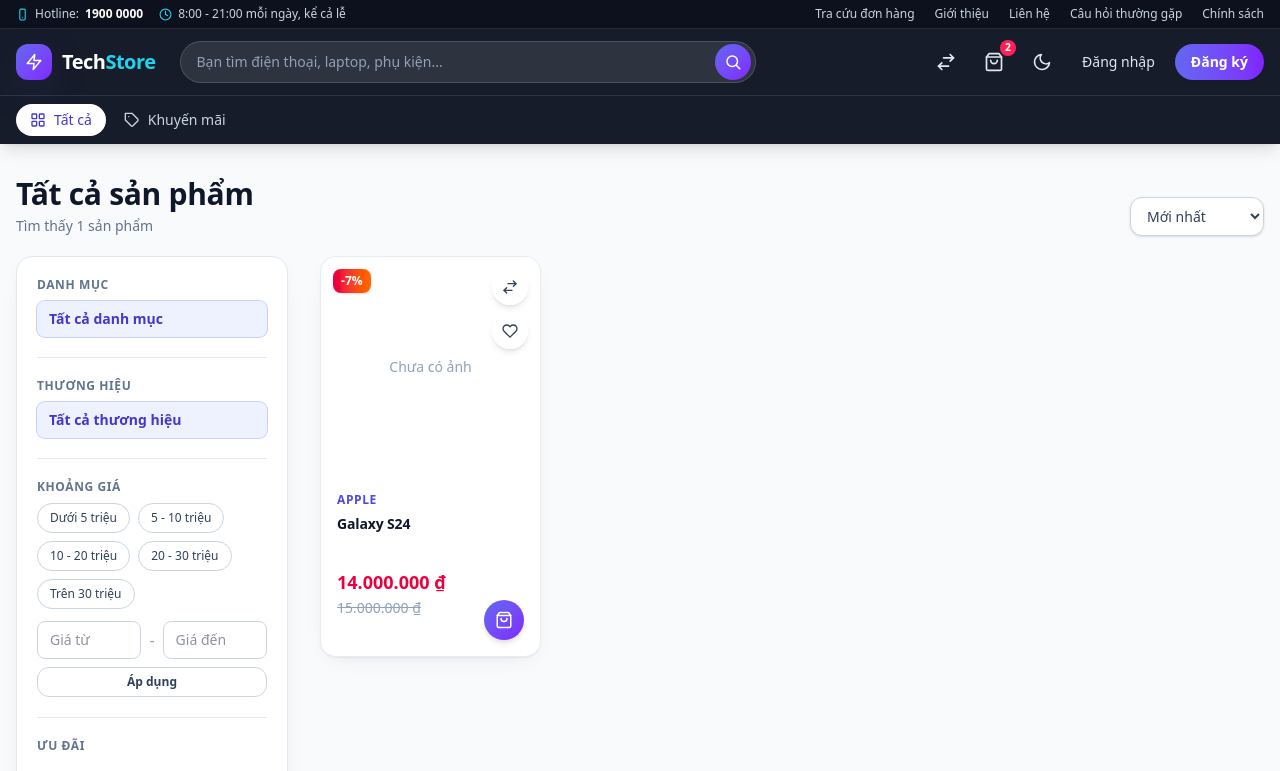
Test case: Khách chưa đăng nhập thêm vào giỏ › vượt tồn kho: báo số còn lại và số đã có, giỏ trên trình duyệt không đổi
The width and height of the screenshot is (1280, 771).
What coordinates should you click on to do the following:
click the button named "Thêm Galaxy S24 vào giỏ"
I would click on:
 (504, 620)
Its box is [484,600,524,640].
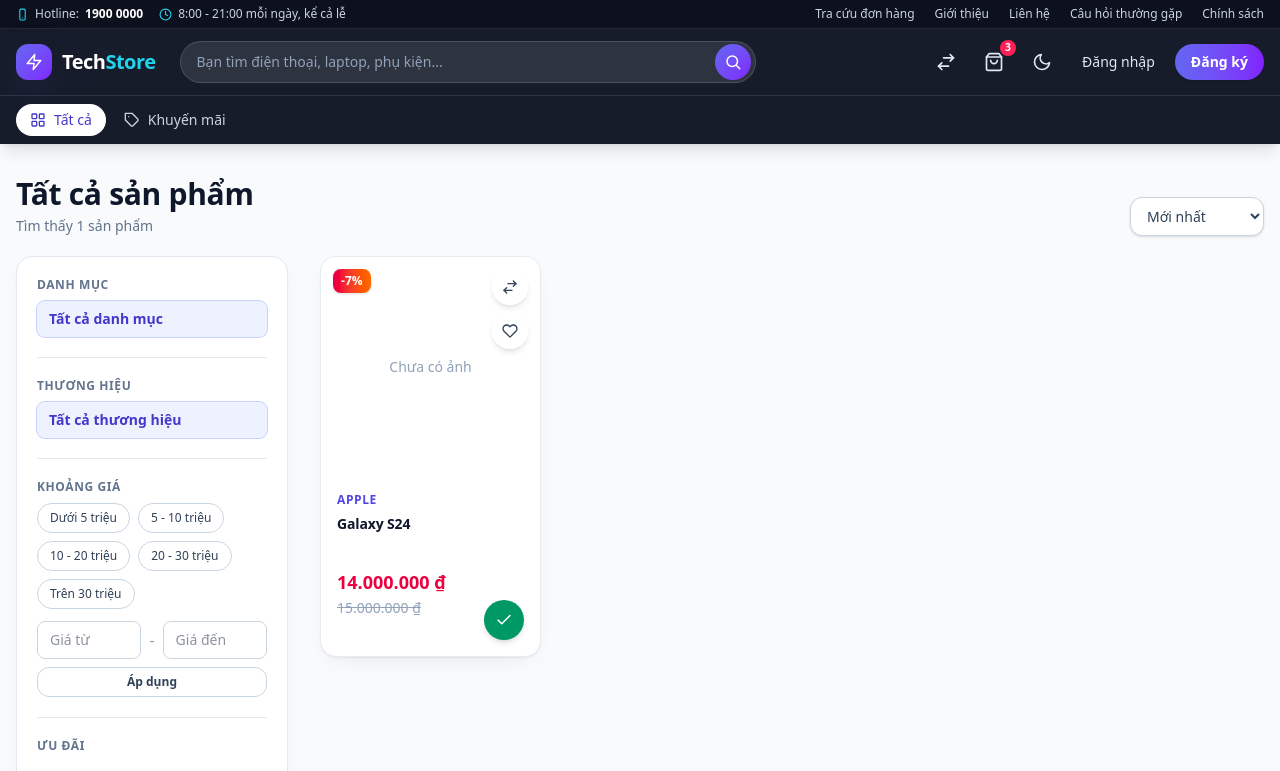
What coordinates should you click on to do the following:
click the button named "Thêm Galaxy S24 vào giỏ"
I would click on:
 (504, 620)
Its box is [484,600,524,640].
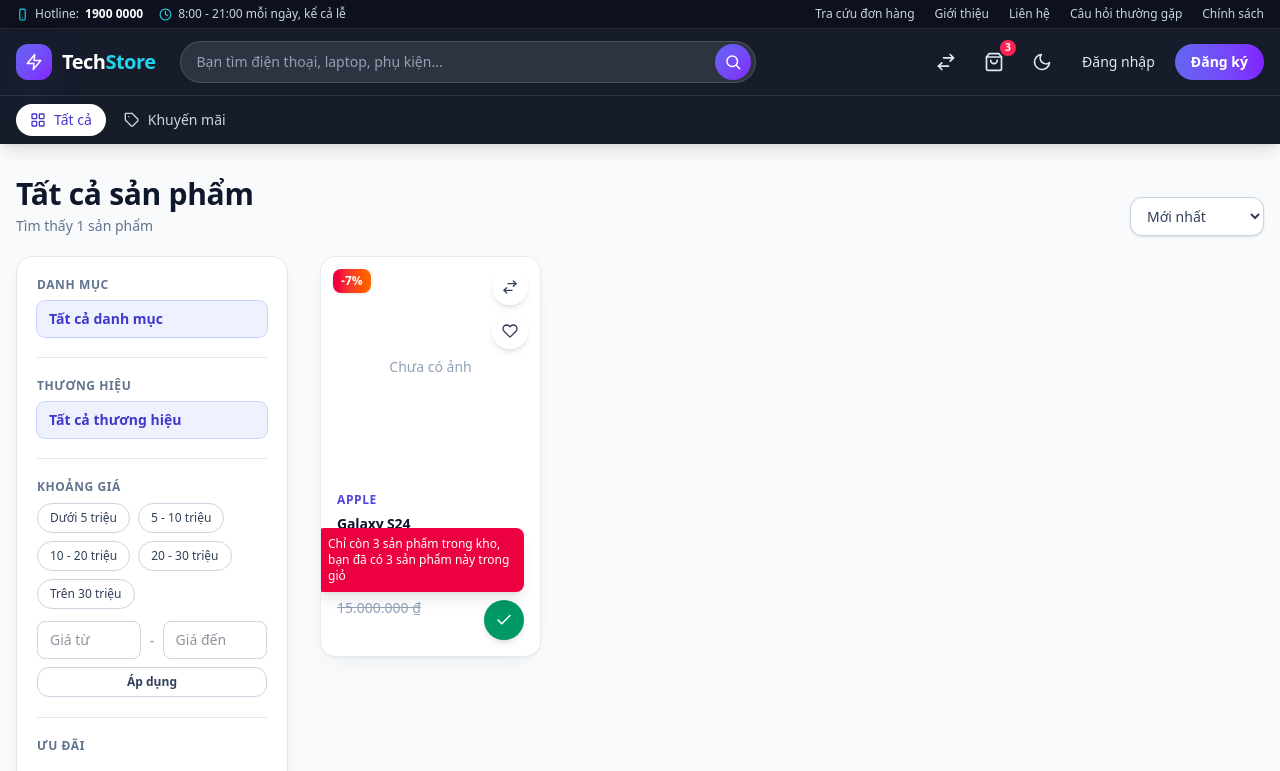
Check: the message reads "Chỉ còn 3 sản phẩm trong kho, bạn đã có 3 sản phẩm này trong giỏ", box [328,535,509,584]
